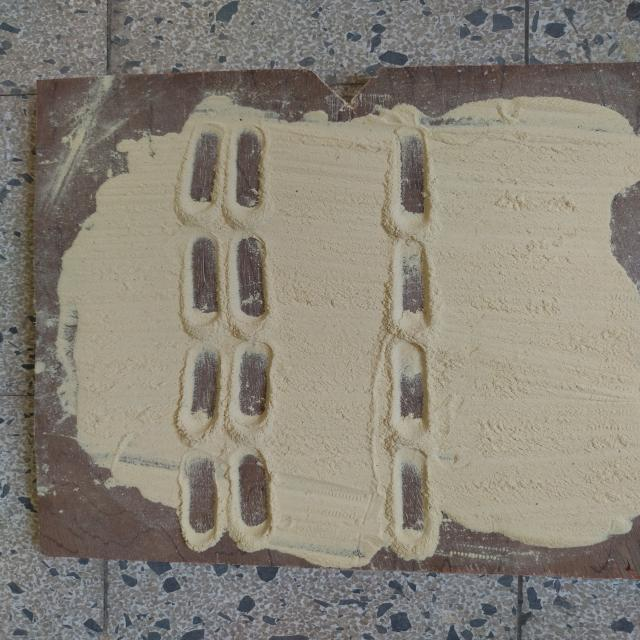double: (176, 446, 279, 556), (180, 226, 276, 342), (173, 119, 274, 227), (176, 342, 276, 444)
single: (382, 444, 444, 560), (380, 121, 440, 237), (382, 238, 440, 338), (384, 338, 438, 444)
